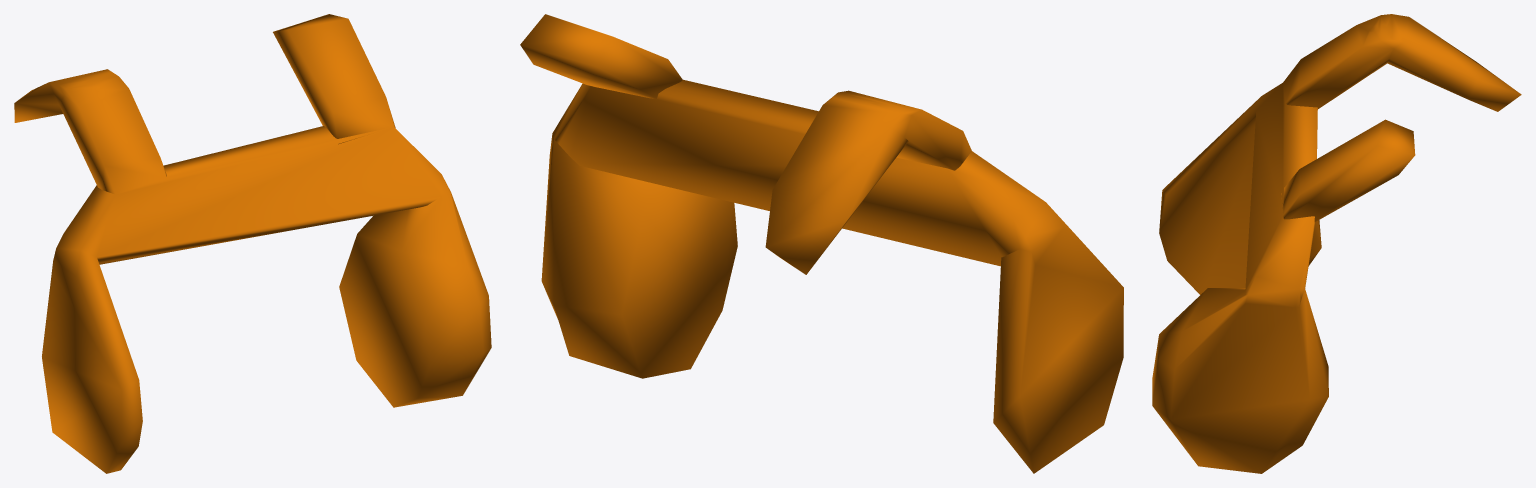
Rendered from gripper_motor_double_collision.glb.
3 views of the same model, side by side, from view 1: azimuth 30°, elevation 25°; view 2: azimuth 150°, elevation 25°; view 3: azimuth 270°, elevation 25° (orthographic). The views are drawn at different scales.
Visible parts, largest first — view 1: node; view 2: node; view 3: node.
Boxes of the visible parts, x1,y1,x2,y2 form: node: [14, 14, 491, 473]; node: [520, 14, 1123, 473]; node: [1152, 14, 1521, 473].
Size of the model in its own units: 0.1056 by 0.0872 by 0.0923.
